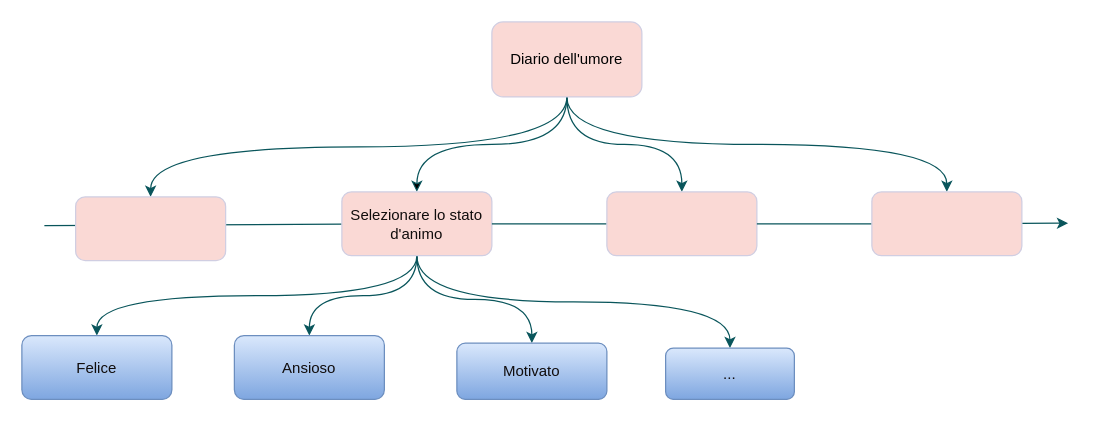
Some shapes in this 1100 by 421 pixel diagram are drawn without their labels. The shapes that lost their labels are listed below. From the top down, each one's centre as x and y in pixels, then its label:
point (150, 228): Accedi alla sezione "Diario"
point (681, 223): Inserire un commento (facoltativo)
point (946, 223): Salvare
